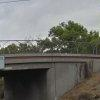Bridge: (7, 42, 94, 77)
